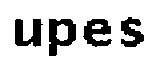e: (82, 17, 114, 51)
p: (47, 16, 78, 58)
s: (118, 16, 148, 52)
u: (11, 16, 45, 48)
